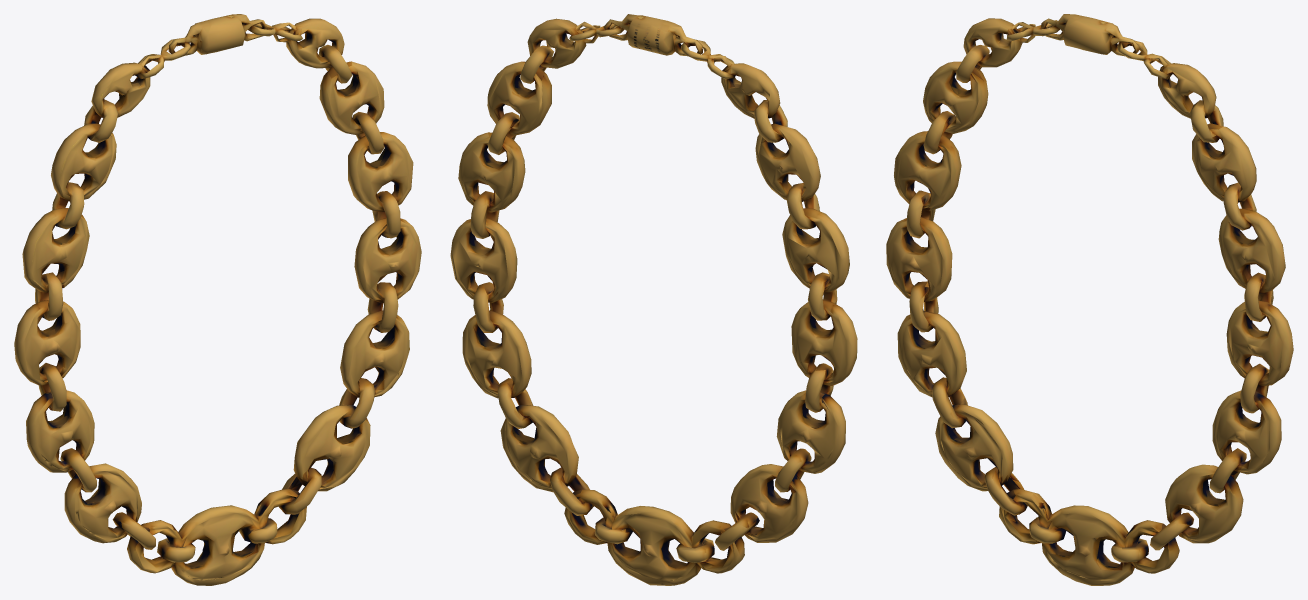
Rendered from GoldChain18k_clean.glb.
3 renders of one model, left to right at view 1: azimuth 30°, elevation 25°; view 2: azimuth 150°, elevation 25°; view 3: azimuth 330°, elevation 25°, orthographic.
Visible parts, largest first — view 1: world; view 2: world; view 3: world.
Part boxes in pixels (bbox=[...]): world: bbox=[14, 14, 421, 585]; world: bbox=[450, 14, 857, 585]; world: bbox=[886, 14, 1293, 585].
Size of the model in its own units: 0.7482 by 0.9997 by 0.0654.
Materials: 1 (1 with a texture image).
